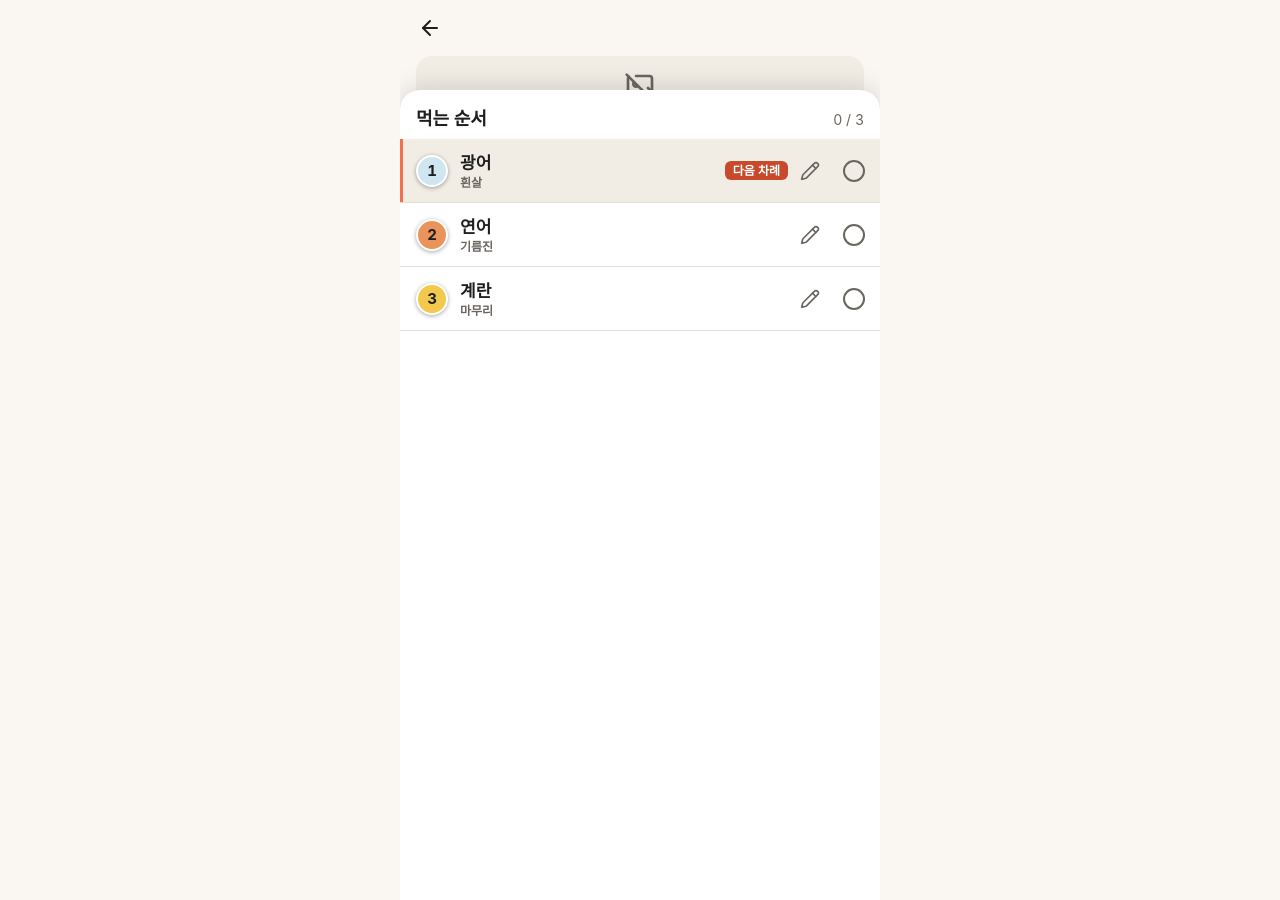
Scenario: ResultPage › BR-COR-01 같은 종류를 고르면 요청 없이 시트만 닫는다
Press the mouse on the button "1 광어 흰살 다음 차례" at (432, 171), box [416,153,788,190]
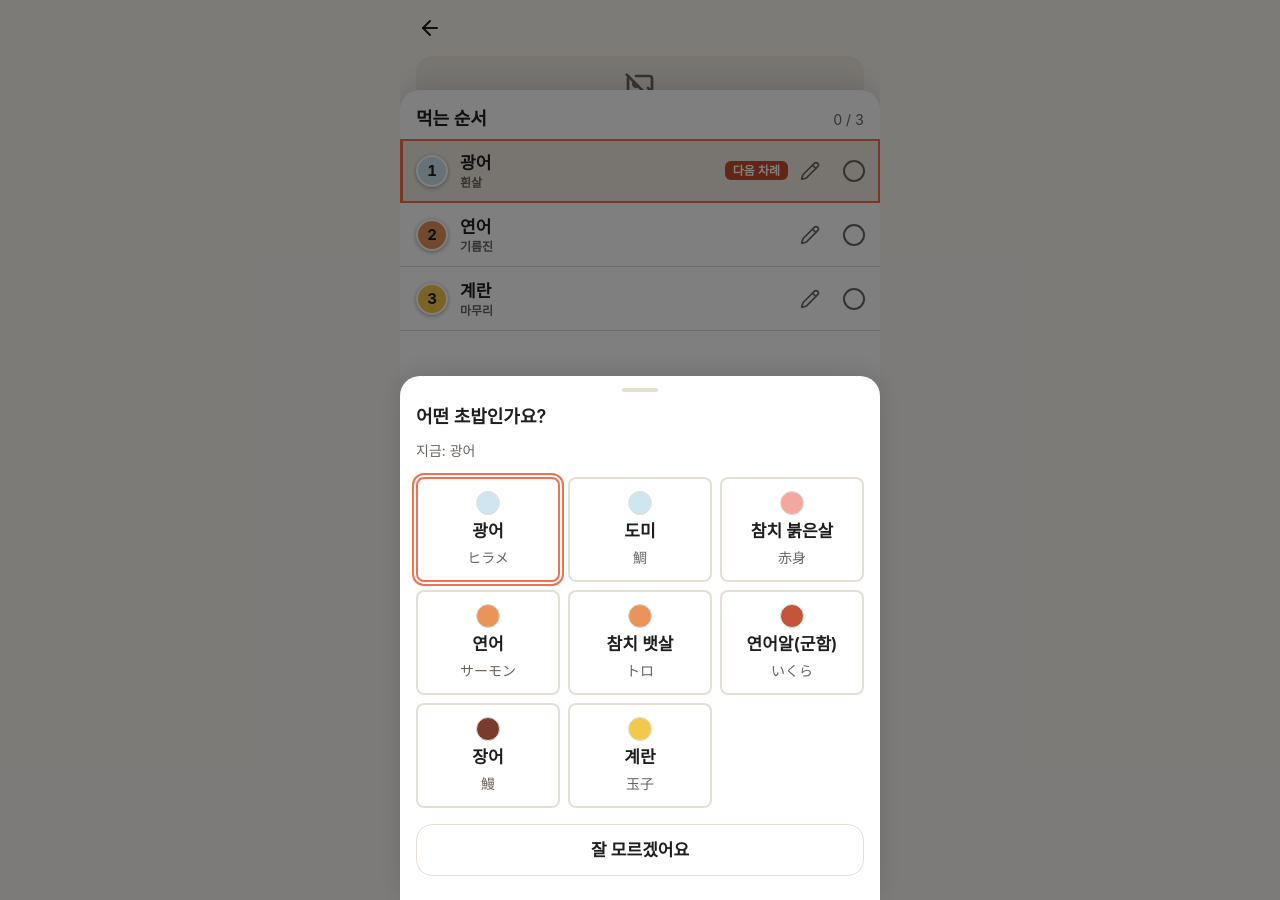
Click the button "광어 ヒラメ" at (488, 530), box [416,477,560,582]
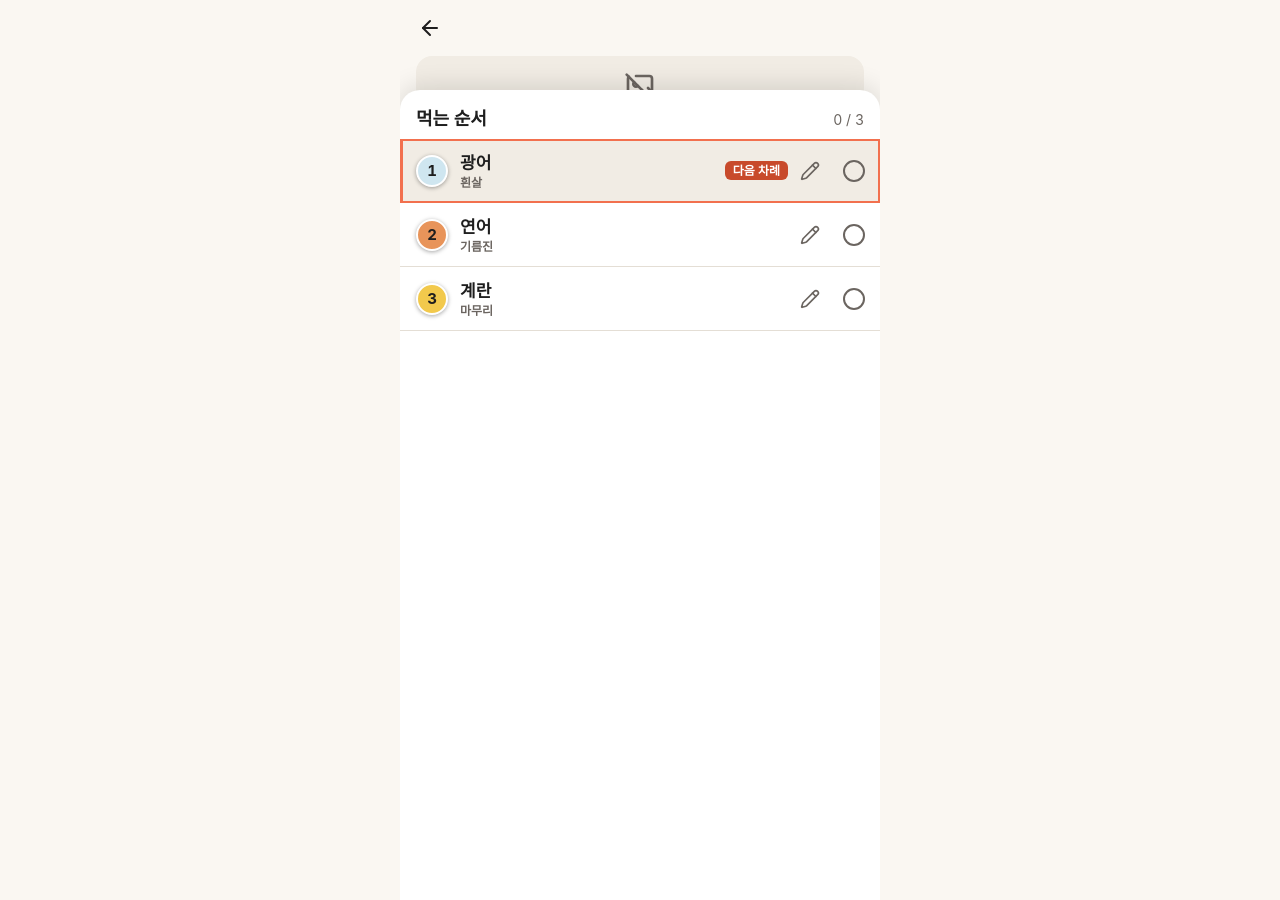
Now the dialog is gone
